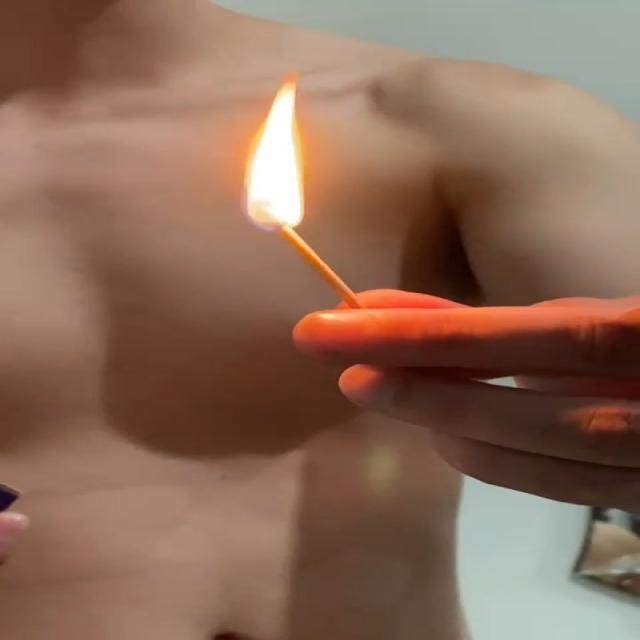fogo-ypXI: (242, 68, 314, 234)
